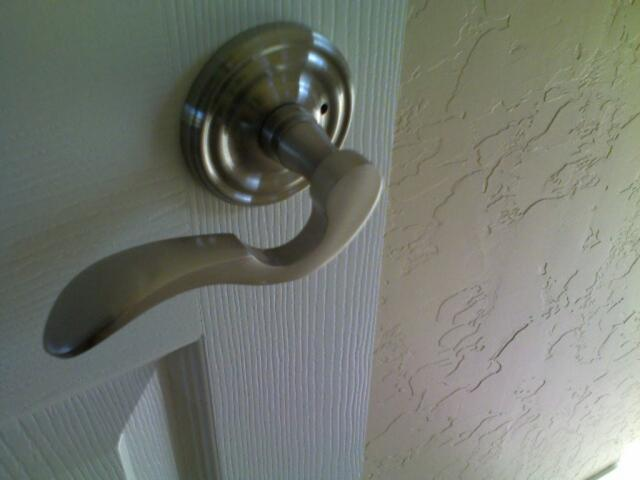Door-handle: (43, 19, 382, 359)
